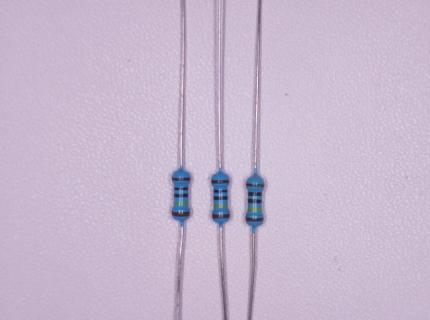Black band: (174, 193, 188, 197), (214, 196, 228, 200), (248, 192, 262, 196), (248, 199, 262, 203), (174, 187, 188, 190), (214, 190, 227, 193)
Brown band: (172, 211, 190, 217), (246, 217, 264, 222), (213, 214, 230, 219), (247, 183, 264, 188), (172, 177, 190, 181), (211, 180, 229, 183)
Yellow band: (174, 201, 188, 205), (248, 207, 262, 211), (214, 204, 227, 208)
